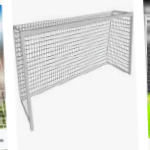goals: (10, 10, 138, 131)
